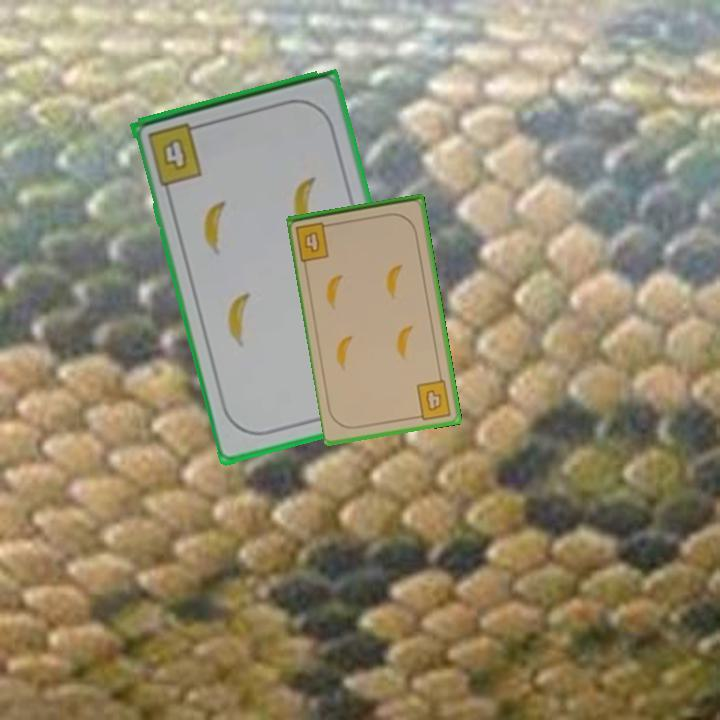4b: (144, 119, 207, 188), (292, 218, 337, 264), (411, 377, 454, 423)
